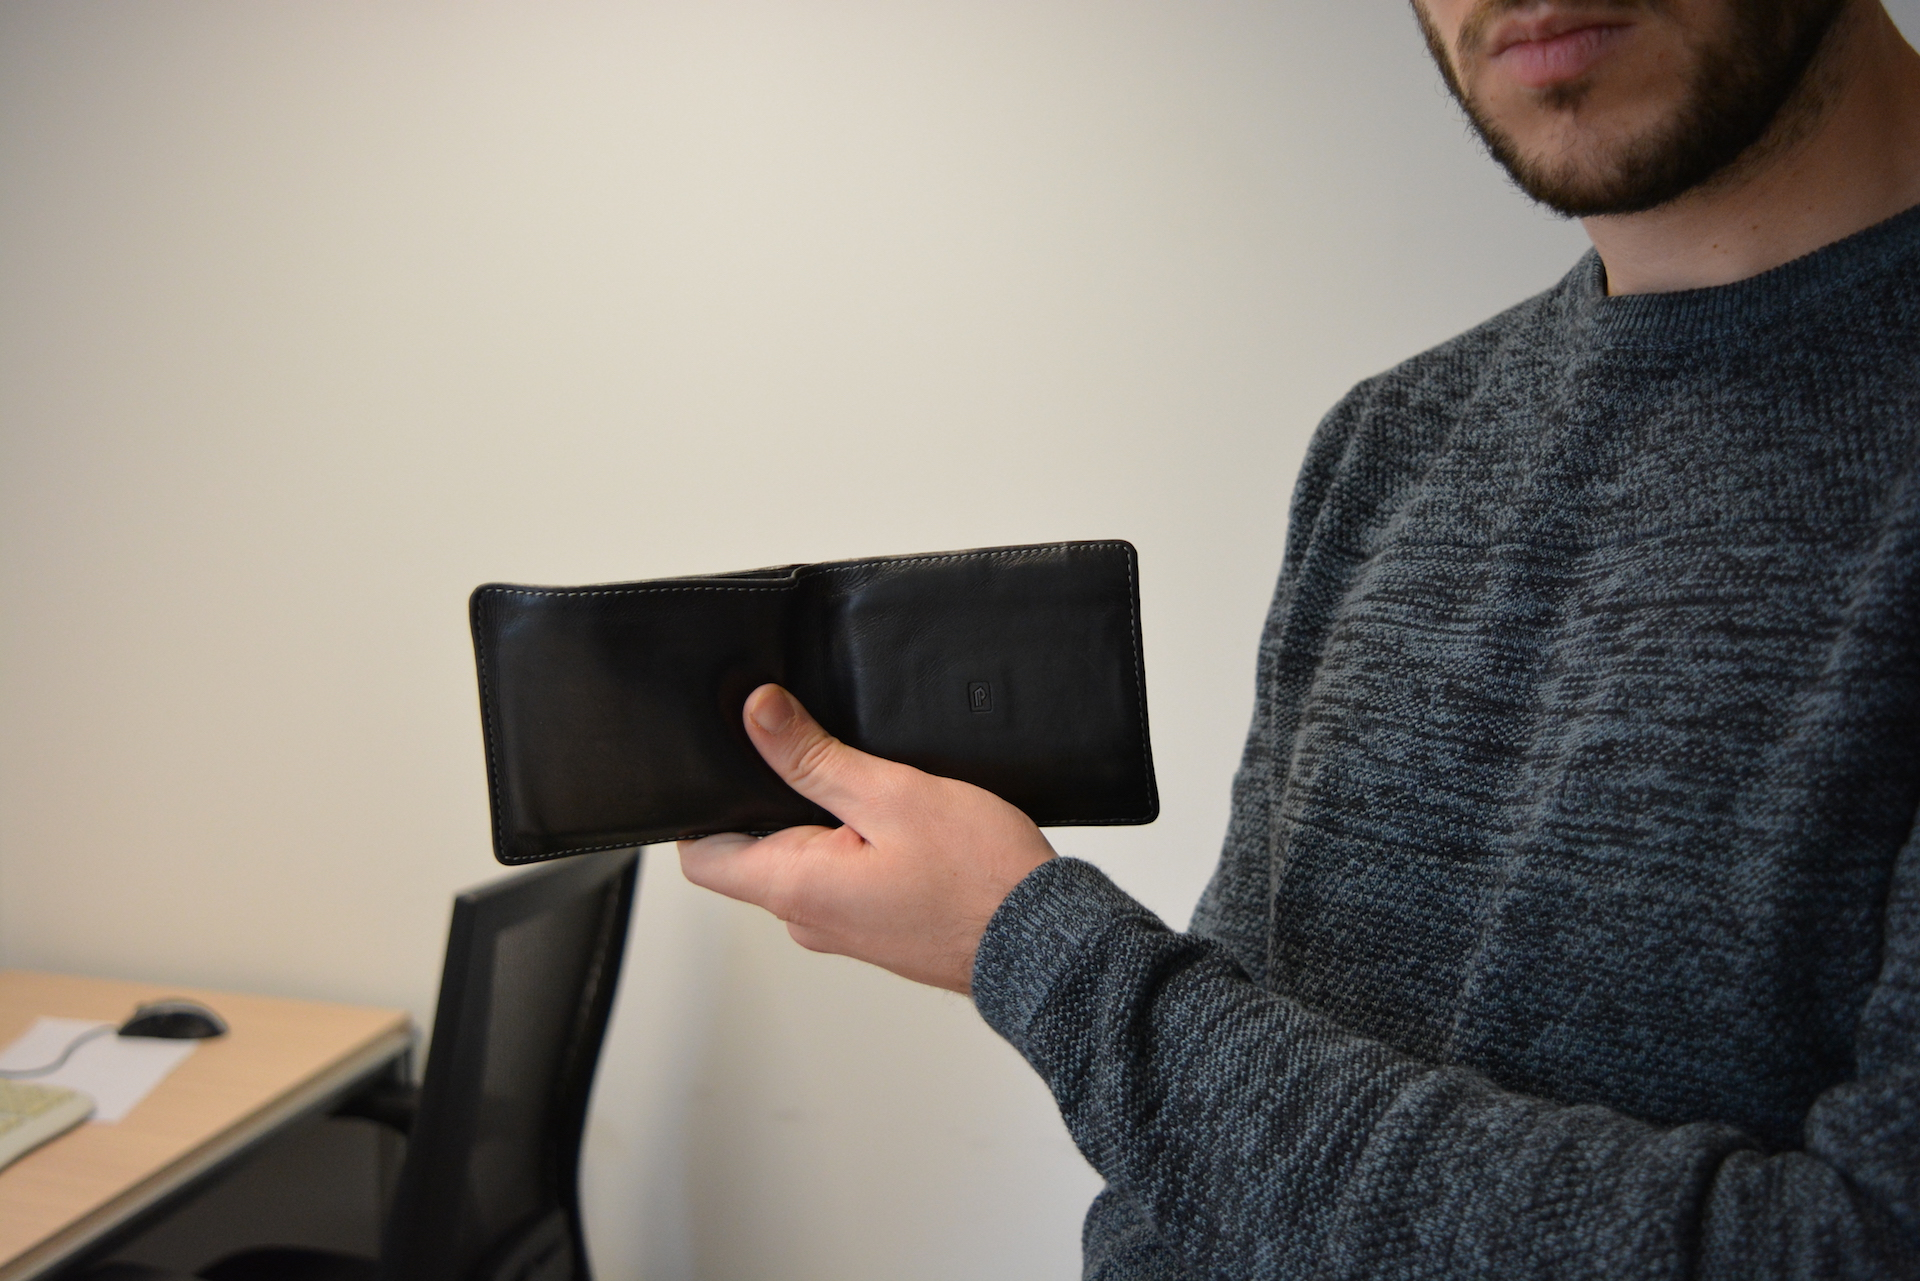monedero: (466, 536, 1162, 868)
